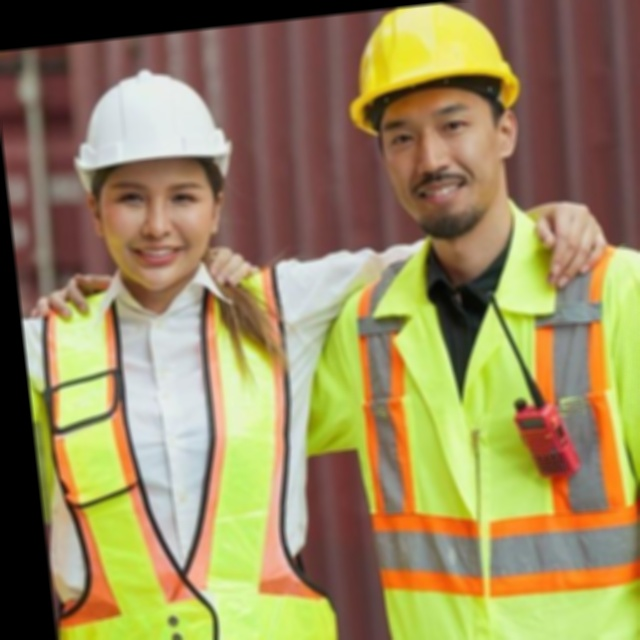Con_Casco: (342, 0, 531, 246), (64, 60, 249, 292)
Con_Chaleco: (333, 215, 640, 640), (18, 255, 348, 640)
